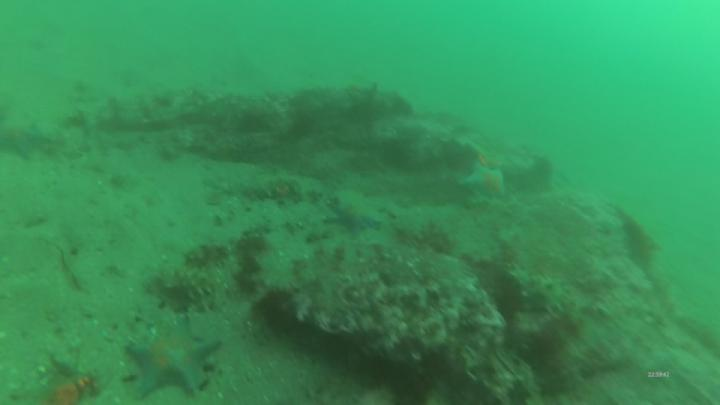holothurian: (146, 267, 224, 300), (506, 268, 564, 310), (245, 173, 304, 209)
starfish: (129, 315, 219, 398), (328, 204, 380, 239), (5, 121, 45, 161), (463, 165, 505, 201)
